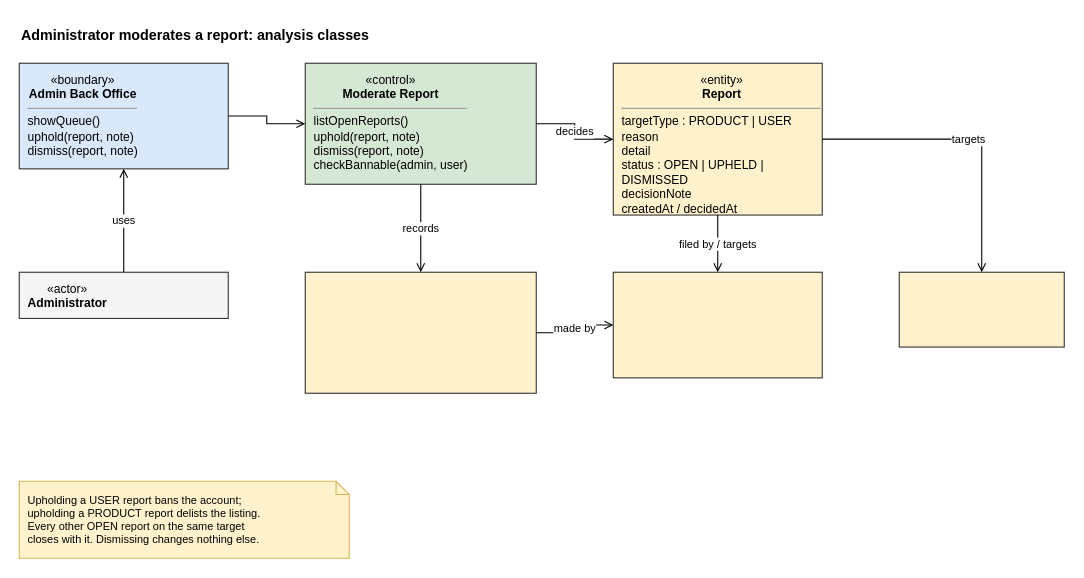
Some shapes in this 1084 by 578 pixel diagram are drawn without their labels. Each missing label, with the centre of its shape:
«entity» Audit Entry action targetType / targetId note createdAt: (420,332)
«entity» Listing status : listed | delisted: (981,309)
«entity» User Account status : ACTIVE | BANNED banReason roles: (717,324)
